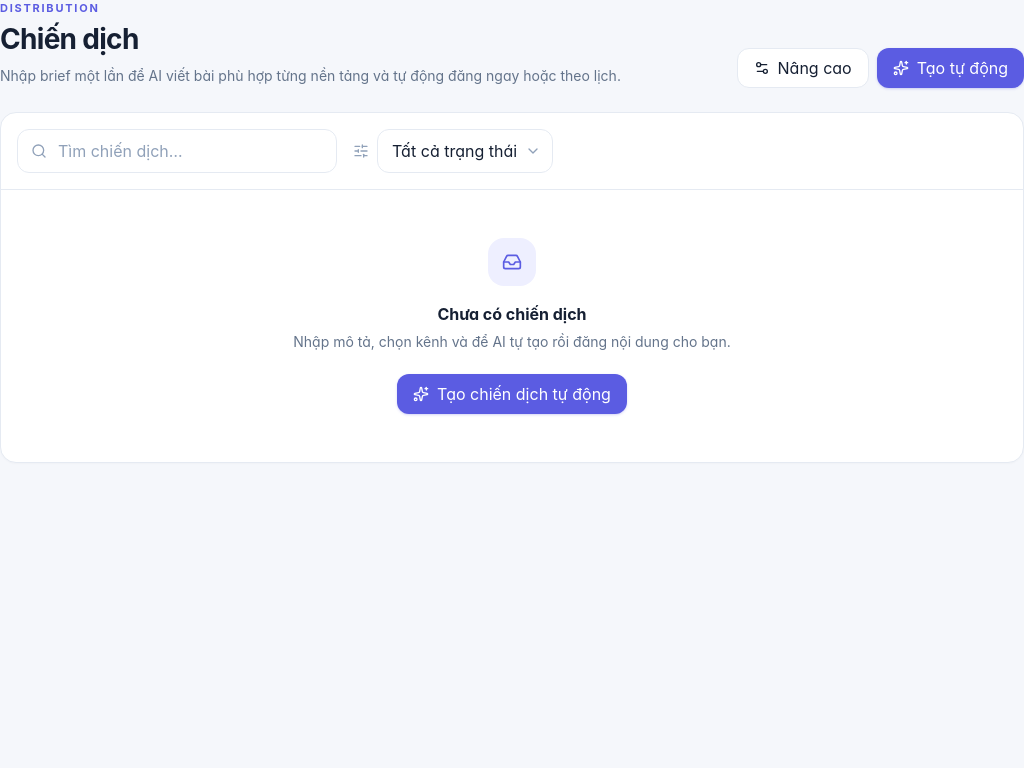
it: CampaignsView automation media retries › passes a connected Playwright account through to the automated campaign picker
Click the button "Tạo tự động" at x=950, y=68, box [877,48,1023,88]
(page scrolled)
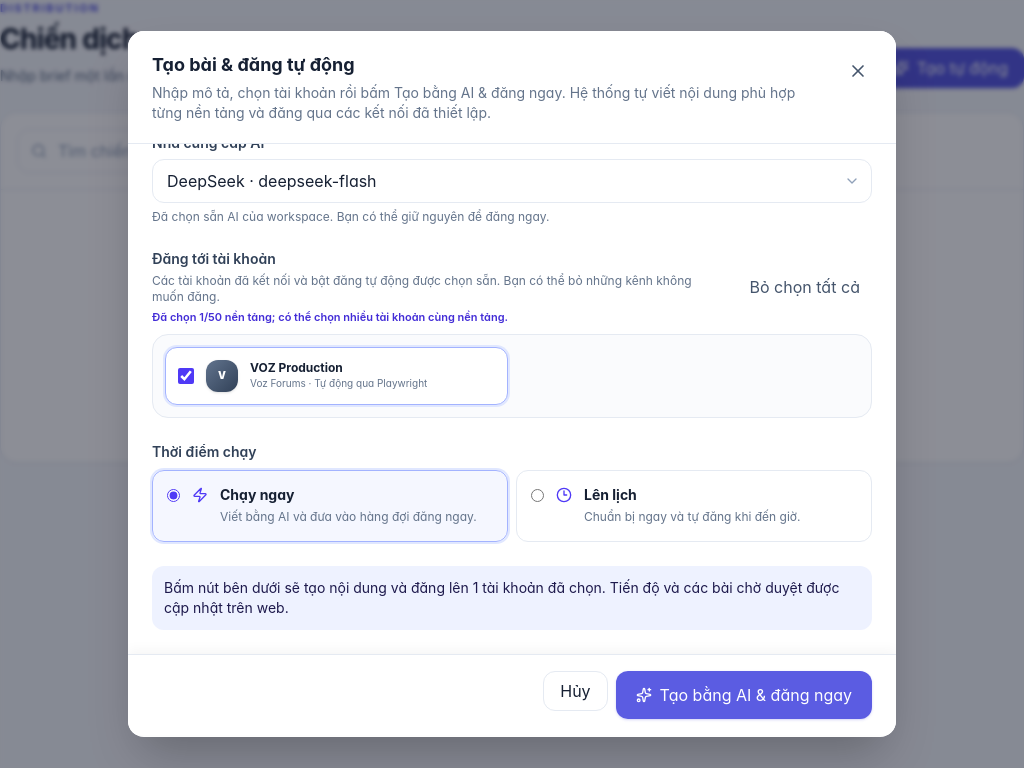
Expected: the checkbox labelled "V VOZ Production Voz Forums · Tự động qua Playwright" is checked, [178,368,194,384]
Expected: the text "Voz Forums · Tự động qua Playwright" is shown, [250,376,427,391]
